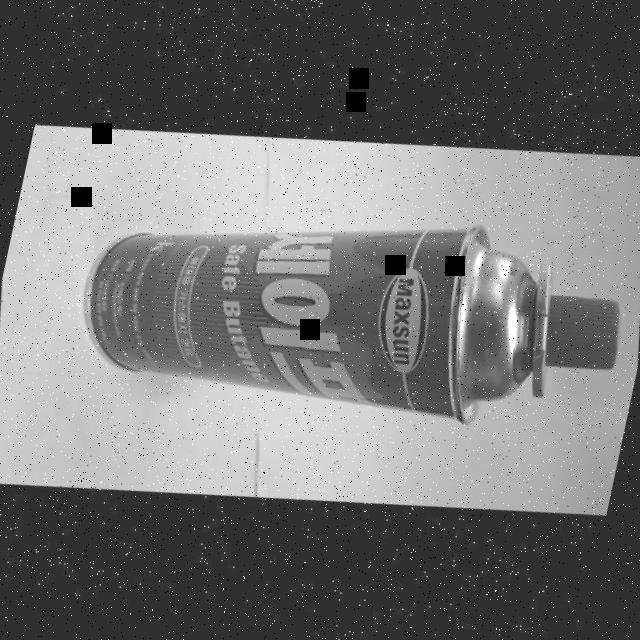chemical_spray_can: (33, 109, 640, 523)
